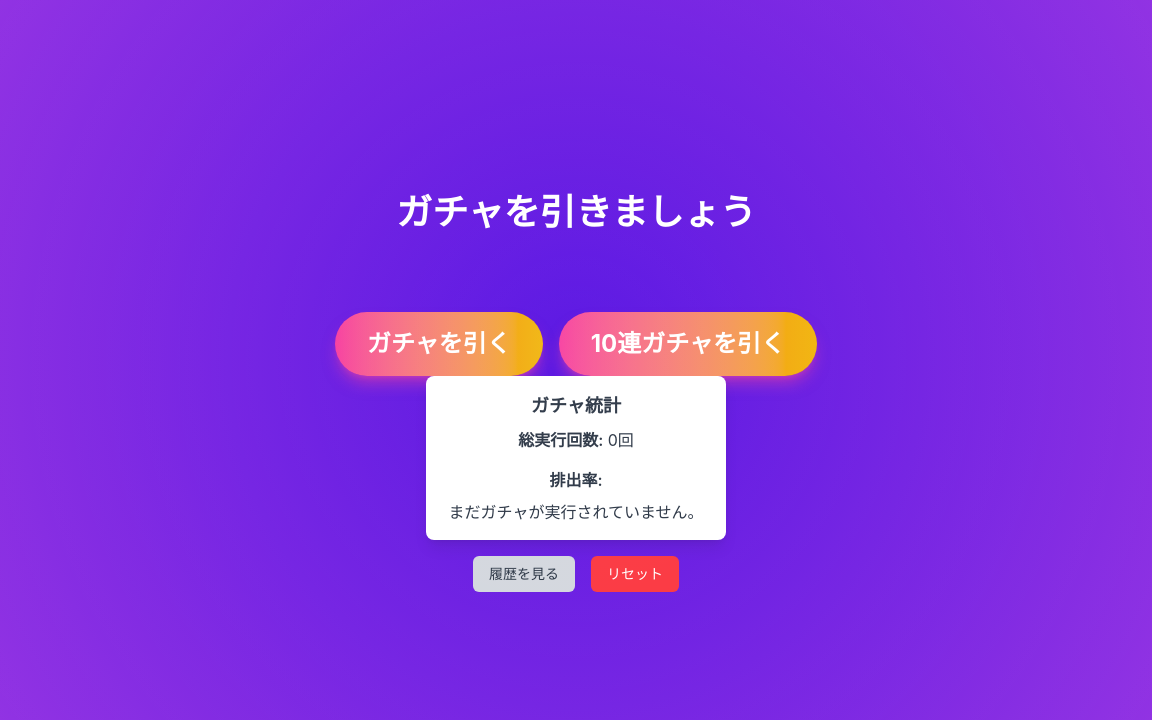
Test case: App component › fetches gacha result A and updates the display
Click the button "ガチャを引く" at (439, 344), box [335, 312, 543, 376]
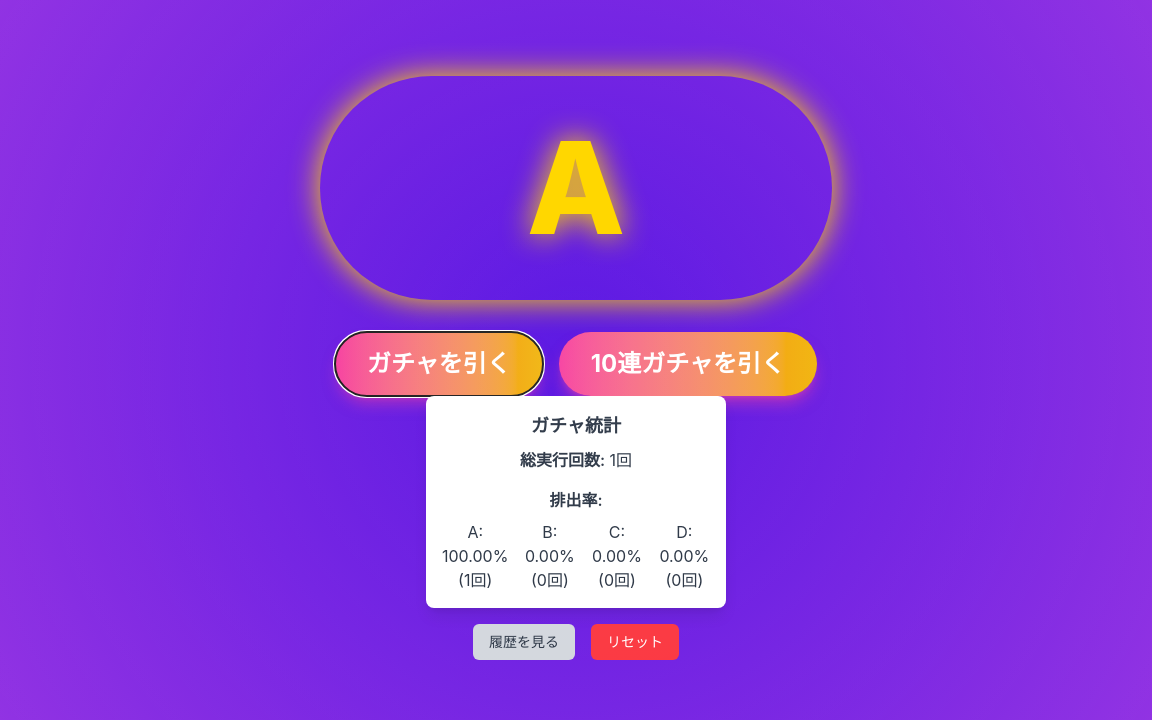
Check: the heading "A" is shown, box [527, 124, 625, 252]
Check: the list item "A: 100.00% (1回)" is shown, box [442, 520, 508, 592]
